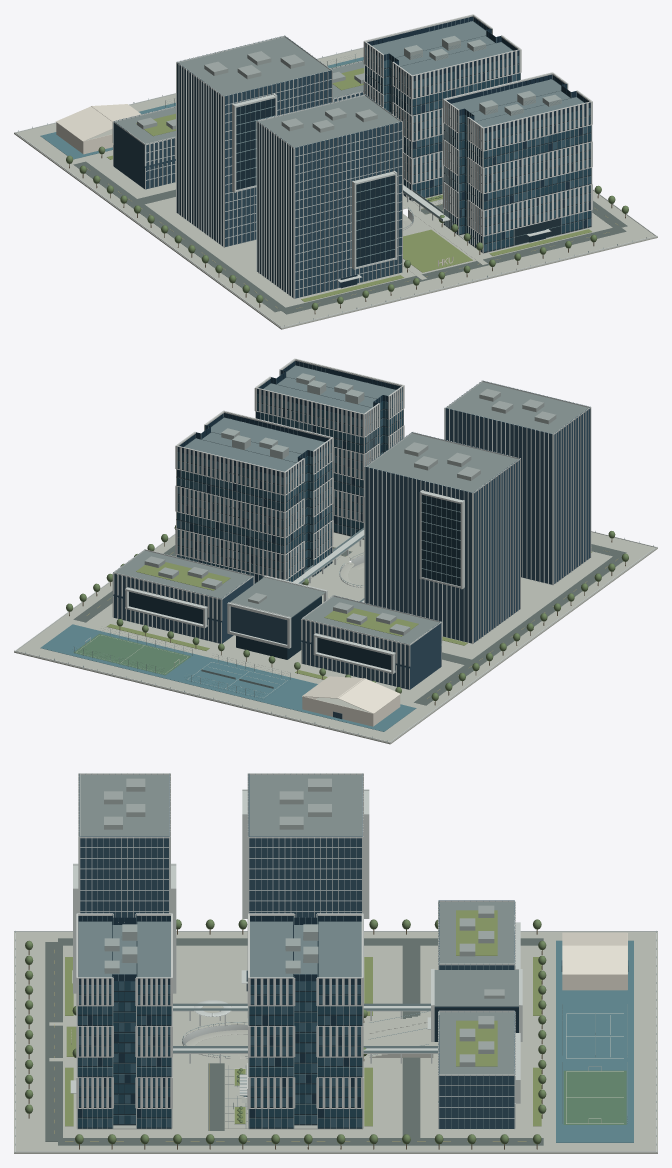
File: browser-export-campus.glb
3 renders of one model, top to bottom at view 1: azimuth 30°, elevation 25°; view 2: azimuth 150°, elevation 25°; view 3: azimuth 270°, elevation 25°, orthographic. The views are drawn at different scales.
Parts seen in each view (by area): view 1: Glass (×6), 03_Columns_and_Frames__Silver facade fins (×2), Perforated_site_paving, 03_Columns_and_Fins__Warm silver aluminium (×2), 02_Glass__Blue grey glazing (×2), Roof (×3), 07_Roof__Roof membrane (×2), 02_Glass__Recessed glass (×2), Roads_and_Paving__Asphalt, 02_Glass__Sky reflecting glazing (×2), 02_Glass__Shadow glazing (×2), 04_FloorBands__Dark facade backing (×2) (+14 smaller); view 2: Glass (×8), Perforated_site_paving, 03_Columns_and_Frames__Silver facade fins (×2), 03_Columns_and_Fins__Warm silver aluminium (×2), 02_Glass__Blue grey glazing (×2), Roof (×4), Sports__Jogging surface, 07_Roof__Roof membrane (×2), 03_Fins_and_Floating_Frame__Silver facade fins (×2), 02_Glass__Shadow glazing (×2), 02_Glass__Sky reflecting glazing (×2), 02_Glass__Recessed glass (+17 smaller); view 3: Perforated_site_paving, Glass (×3), Roof (×4), 02_Glass__Blue grey glazing (×2), 03_Columns_and_Fins__Warm silver aluminium (×2), Roads_and_Paving__Asphalt, 07_Roof__Roof membrane (×2), Sports__Jogging surface, 03_Columns_and_Frames__Silver facade fins (×2), 02_Glass__Sky reflecting glazing (×2), 07_Roof__Rooftop plant provisional (×4), 04_FloorBands__Dark facade backing (×2) (+24 smaller).
Part boxes in pixels (<box>): Glass (×6): <box>113,62,401,298</box>; 03_Columns_and_Frames__Silver facade fins (×2): <box>176,35,402,298</box>; Perforated_site_paving: <box>14,48,657,329</box>; 03_Columns_and_Fins__Warm silver aluminium (×2): <box>363,28,592,253</box>; 02_Glass__Blue grey glazing (×2): <box>365,50,591,251</box>; Roof (×3): <box>115,37,400,147</box>; 07_Roof__Roof membrane (×2): <box>372,21,583,127</box>; 02_Glass__Recessed glass (×2): <box>236,98,394,266</box>; Roads_and_Paving__Asphalt: <box>73,161,627,314</box>; 02_Glass__Sky reflecting glazing (×2): <box>365,48,591,251</box>; 02_Glass__Shadow glazing (×2): <box>365,16,590,242</box>; 04_FloorBands__Dark facade backing (×2): <box>365,55,591,252</box>; Glass (×8): <box>113,407,590,689</box>; Perforated_site_paving: <box>14,532,657,744</box>; 03_Columns_and_Frames__Silver facade fins (×2): <box>364,380,591,643</box>; 03_Columns_and_Fins__Warm silver aluminium (×2): <box>175,370,404,583</box>; 02_Glass__Blue grey glazing (×2): <box>177,392,403,583</box>; Roof (×4): <box>115,382,588,644</box>; Sports__Jogging surface: <box>40,624,416,731</box>; 07_Roof__Roof membrane (×2): <box>184,365,395,471</box>; 03_Fins_and_Floating_Frame__Silver facade fins (×2): <box>112,573,442,689</box>; 02_Glass__Shadow glazing (×2): <box>177,361,402,581</box>; 02_Glass__Sky reflecting glazing (×2): <box>177,395,402,577</box>; 02_Glass__Recessed glass: <box>421,494,460,586</box>; Perforated_site_paving: <box>14,932,657,1153</box>; Glass (×3): <box>80,836,514,1128</box>; Roof (×4): <box>80,775,514,1074</box>; 02_Glass__Blue grey glazing (×2): <box>78,981,362,1127</box>; 03_Columns_and_Fins__Warm silver aluminium (×2): <box>76,914,363,1128</box>; Roads_and_Paving__Asphalt: <box>45,938,543,1145</box>; 07_Roof__Roof membrane (×2): <box>78,921,361,980</box>; Sports__Jogging surface: <box>556,940,633,1142</box>; 03_Columns_and_Frames__Silver facade fins (×2): <box>73,773,369,1017</box>; 02_Glass__Sky reflecting glazing (×2): <box>79,981,362,1127</box>; 07_Roof__Rooftop plant provisional (×4): <box>104,778,494,1066</box>; 04_FloorBands__Dark facade backing (×2): <box>78,990,362,1128</box>.
Bounding box in the file's own units: 208 × 85.6 × 256.
